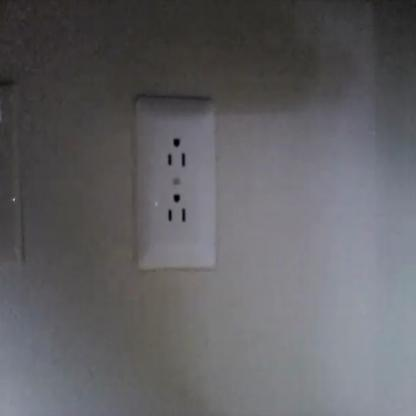OUTLET: (133, 96, 218, 272)
